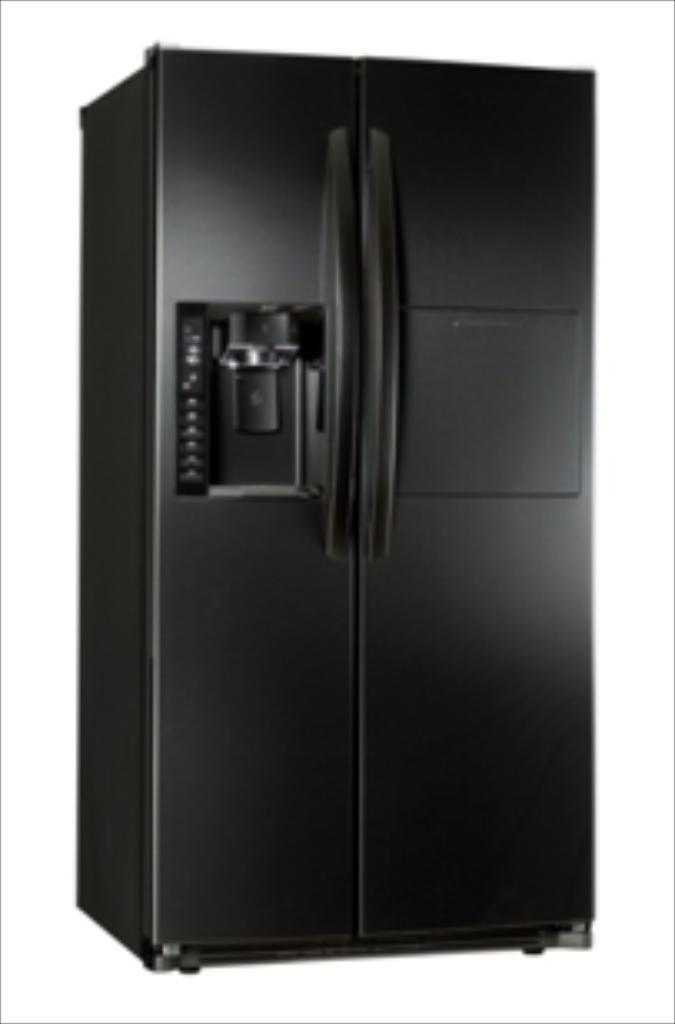handle: (361, 138, 402, 528), (328, 126, 361, 556)
